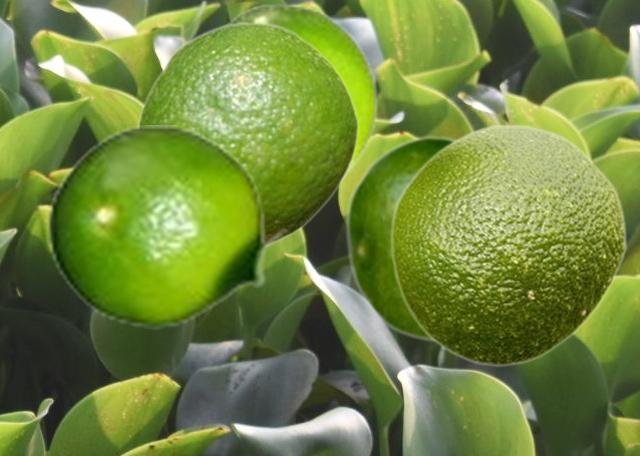calamansi: (389, 123, 626, 367), (136, 21, 358, 245), (46, 125, 290, 328), (219, 2, 378, 188), (344, 134, 454, 341)
